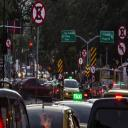NoSeguir: (5, 38, 12, 48)
